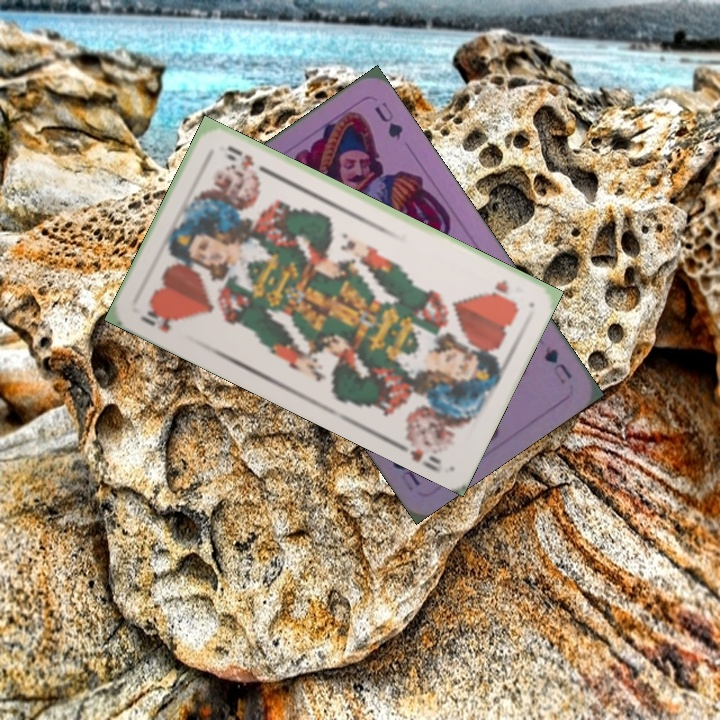GU: (540, 342, 575, 387)
HO: (136, 306, 180, 335), (489, 275, 520, 307)
